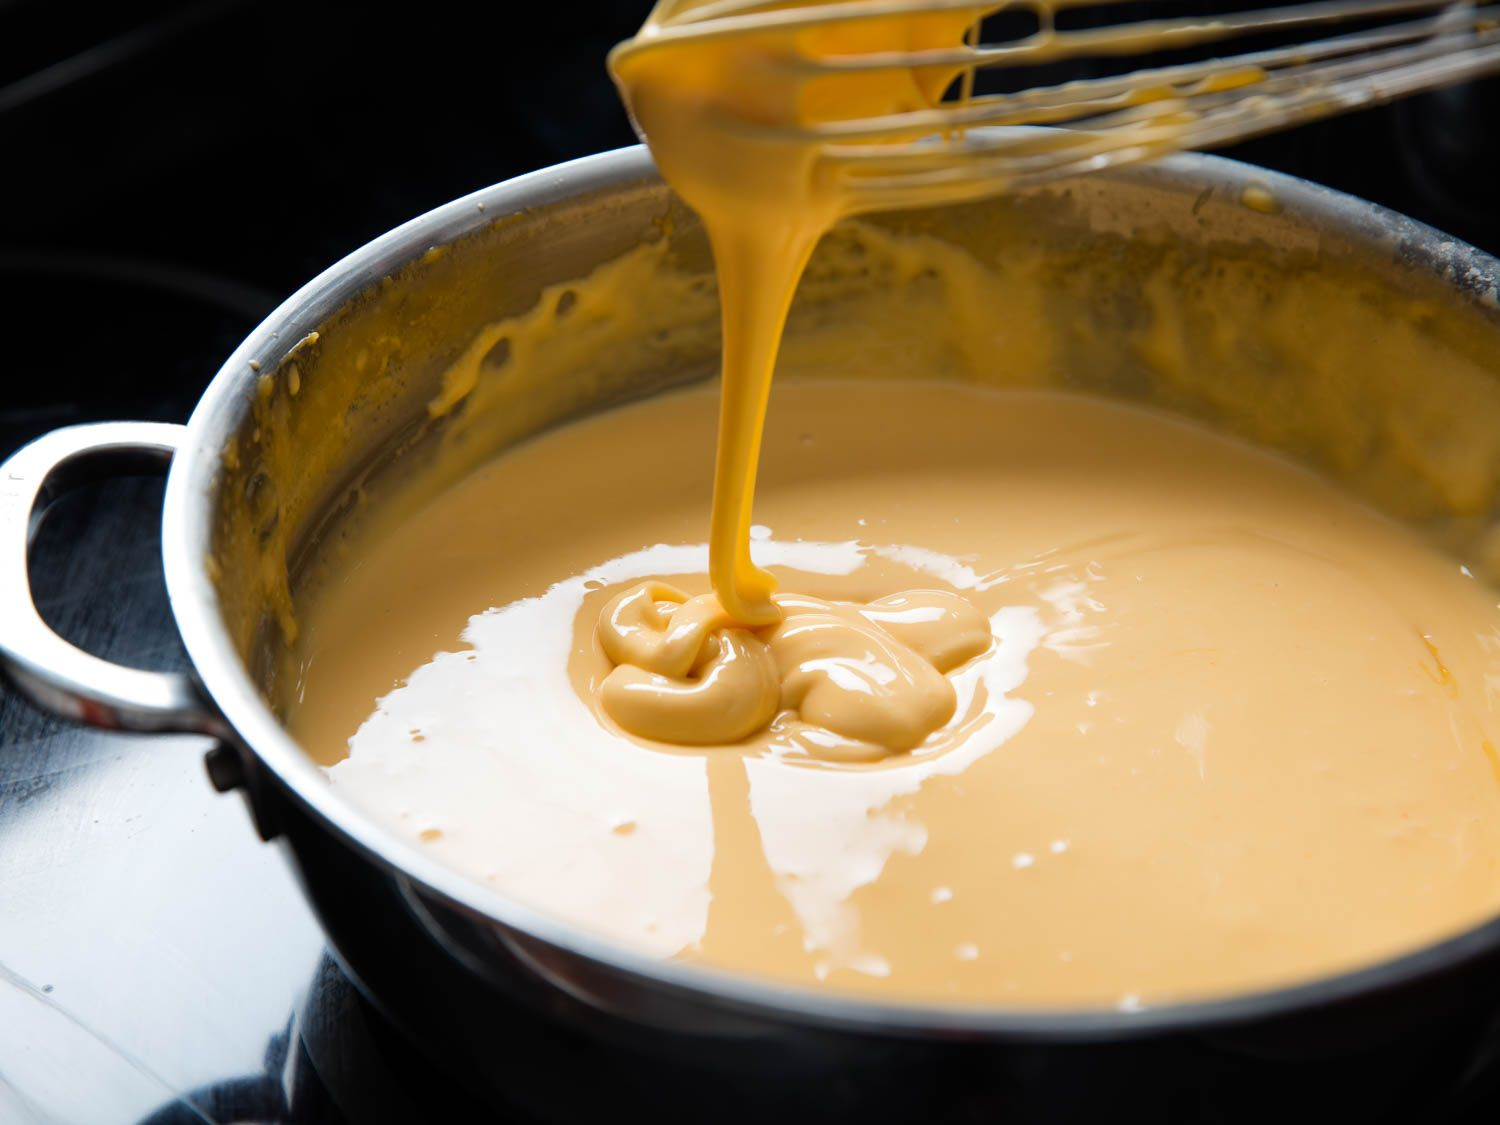cheese: (514, 381, 1410, 964)
